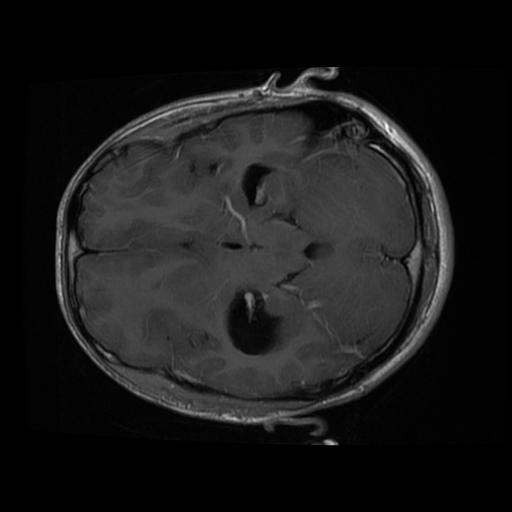glioma: (227, 285, 279, 361)
